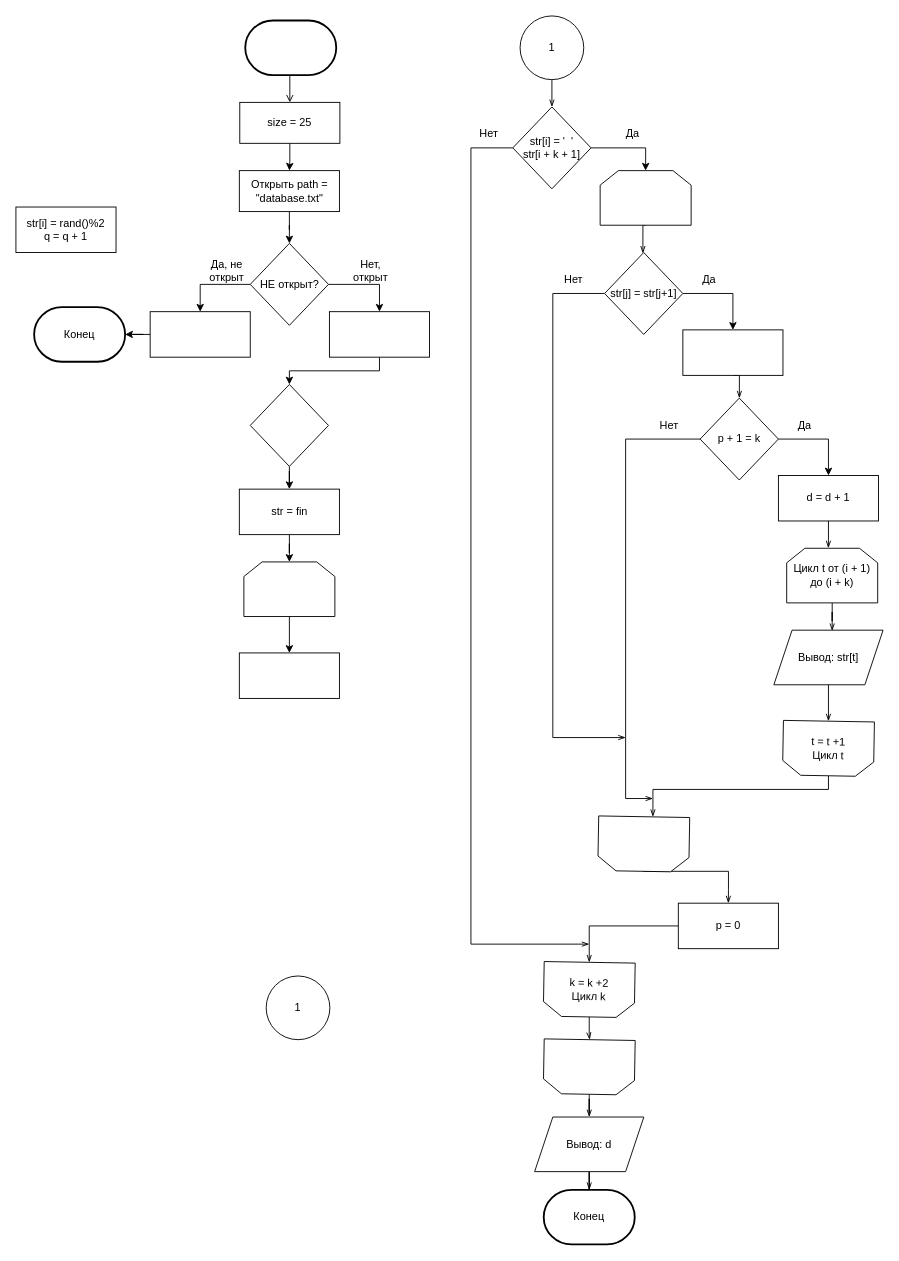
The diagram is 899 pixels wide and 1261 high, and some of its shapes have lost their labels. Here are the shapes that lost their labels. From the top down, the centre of each, then its label:
At (290,47): "Вход".
At (645,197): "Цикл j от i + 1 до i + k - 1".
At (199,334): "FILE ERROR".
At (379,334): "j = z = a = d = b = c = q = 0".
At (732,352): "p = p + 1".
At (289,425): "!fin.eof()".
At (289,589): "Цикл i от i до 2".
At (643,843): "j = j +1 Цикл j".
At (588,1066): "i = i +1 Цикл i".
